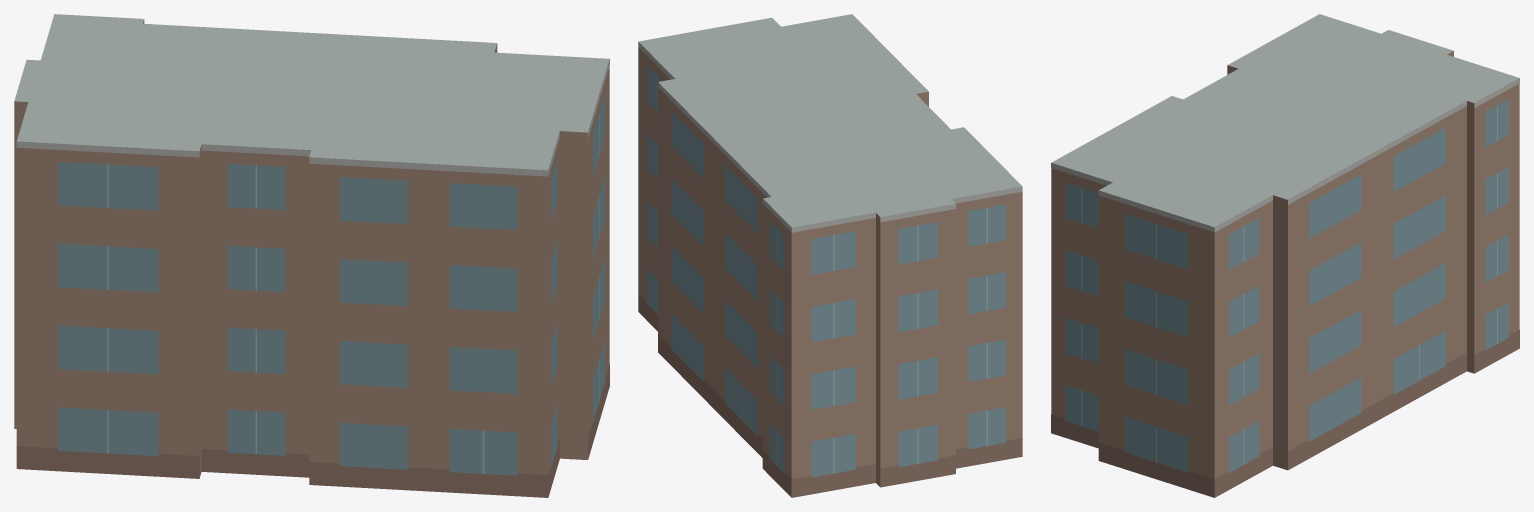
Rendered from survey-upis-32594929.glb.
The picture shows the model from 3 angles, left to right: view 1: azimuth 30°, elevation 25°; view 2: azimuth 150°, elevation 25°; view 3: azimuth 270°, elevation 25°; orthographic projection. The views are drawn at different scales.
Visible parts, largest first — view 1: survey-upis-32594929.tmp; view 2: survey-upis-32594929.tmp; view 3: survey-upis-32594929.tmp.
Part boxes in pixels (<box>): survey-upis-32594929.tmp: <box>14,14,609,497</box>; survey-upis-32594929.tmp: <box>638,14,1022,497</box>; survey-upis-32594929.tmp: <box>1051,14,1519,497</box>.
Size of the model in its own units: 21.57 by 12.75 by 20.02.
